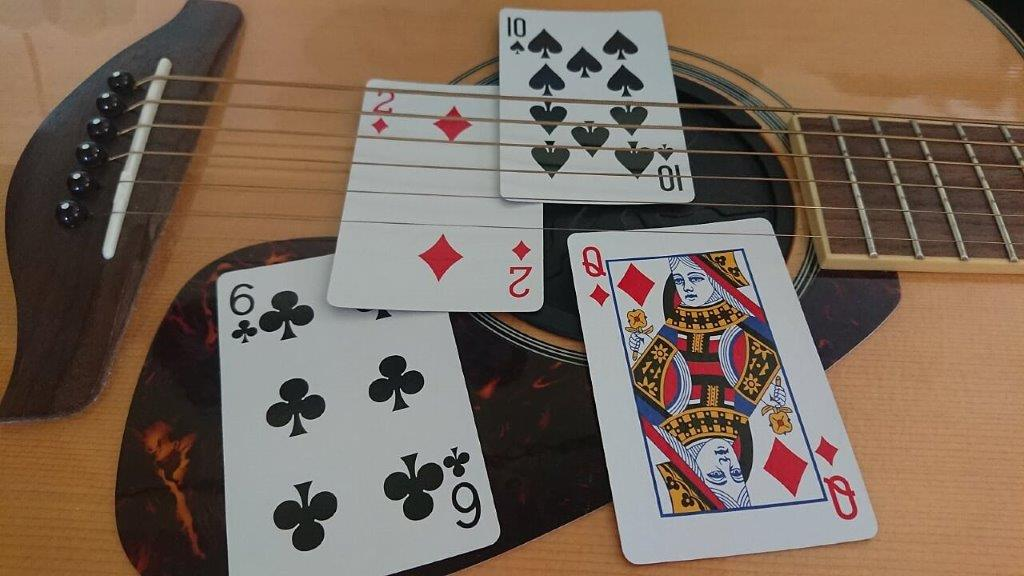10S: (502, 10, 535, 64)
2D: (368, 84, 399, 141)
6C: (224, 275, 265, 353)
QD: (573, 236, 620, 314)
